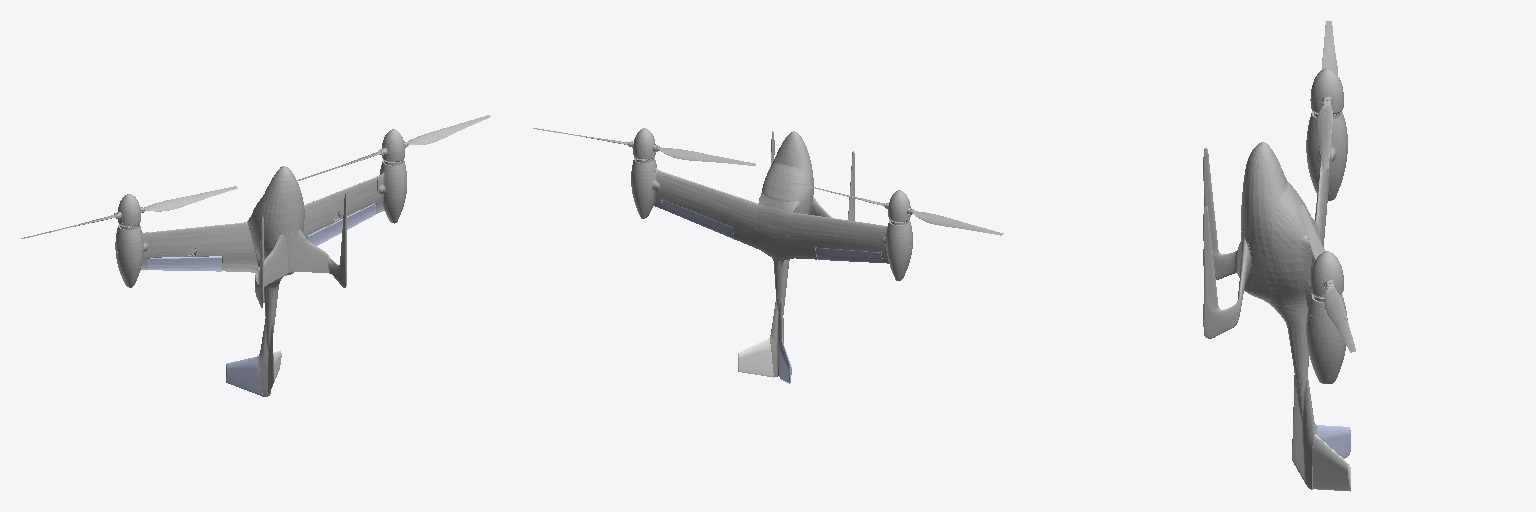
URDF robot description (Tiltrotor_6D):
<?xml version="1.0" encoding="utf-8"?>
<!-- This URDF was automatically created by SolidWorks to URDF Exporter! Originally created by Stephen Brawner (brawner@gmail.com) 
     Commit Version: 1.6.0-4-g7f85cfe  Build Version: 1.6.7995.38578
     For more information, please see http://wiki.ros.org/sw_urdf_exporter -->
<robot
  name="Tiltrotor_6D">
  <link
    name="Fusilage">
    <inertial>
      <origin
        xyz="0.00 0.17 -0.66"
        rpy="0 0 0" />
      <mass
        value="3.86" />
      <inertia
        ixx="0.55"
        ixy="0.0"
        ixz="0.0"
        iyy="0.91"
        iyz="0.05"
        izz="0.48" />
    </inertial>
    <visual>
      <origin
        xyz="0 0 0"
        rpy="0 0 0" />
      <geometry>
        <mesh
          filename="package://Tiltrotor_6D/meshes/Fusilage.STL" />
      </geometry>
      <material
        name="">
        <color
          rgba="0.75294 0.75294 0.75294 1" />
      </material>
    </visual>
    <collision>
      <origin
        xyz="0 0 0"
        rpy="0 0 0" />
      <geometry>
        <mesh
          filename="package://Tiltrotor_6D/meshes/Fusilage.STL" />
      </geometry>
    </collision>
  </link>
  <link
    name="Aileron_Right">
    <inertial>
      <origin
        xyz="-0.019605 -0.003630 0.230941"
        rpy="0 0 0" />
      <mass
        value="0.974692" />
      <inertia
        ixx="0.020382"
        ixy="-0.000078"
        ixz="-0.000206"
        iyy="0.020766"
        iyz="-0.000099"
        izz="0.000467" />
    </inertial>
    <visual>
      <origin
        xyz="0 0 0"
        rpy="0 0 0" />
      <geometry>
        <mesh
          filename="package://Tiltrotor_6D/meshes/Aileron_Right.STL" />
      </geometry>
      <material
        name="">
        <color
          rgba="0.79216 0.81961 0.93333 1" />
      </material>
    </visual>
    <collision>
      <origin
        xyz="0 0 0"
        rpy="0 0 0" />
      <geometry>
        <mesh
          filename="package://Tiltrotor_6D/meshes/Aileron_Right.STL" />
      </geometry>
    </collision>
  </link>
  <joint
    name="Aileron_Right_Hinge"
    type="revolute">
    <origin
      xyz="-0.29646 0.2363 -0.63316"
      rpy="-0.035889 -1.3866 -0.031226" />
    <parent
      link="Fusilage" />
    <child
      link="Aileron_Right" />
    <axis
      xyz="0 0 1" />
    <limit
      lower="0"
      upper="0"
      effort="0"
      velocity="0" />
  </joint>
  <link
    name="Aileron_Left">
    <inertial>
      <origin
        xyz="0.019605 -0.003630 0.230941"
        rpy="0 0 0" />
      <mass
        value="0.974692" />
      <inertia
        ixx="0.020382"
        ixy="0.000078"
        ixz="0.000206"
        iyy="0.020766"
        iyz="-0.000099"
        izz="0.000467" />
    </inertial>
    <visual>
      <origin
        xyz="0 0 0"
        rpy="0 0 0" />
      <geometry>
        <mesh
          filename="package://Tiltrotor_6D/meshes/Aileron_Left.STL" />
      </geometry>
      <material
        name="">
        <color
          rgba="0.79216 0.81961 0.93333 1" />
      </material>
    </visual>
    <collision>
      <origin
        xyz="0 0 0"
        rpy="0 0 0" />
      <geometry>
        <mesh
          filename="package://Tiltrotor_6D/meshes/Aileron_Left.STL" />
      </geometry>
    </collision>
  </link>
  <joint
    name="Aileron_Left_Hinge"
    type="revolute">
    <origin
      xyz="0.29646 0.2363 -0.63316"
      rpy="-1.0868 1.1664 -1.0529" />
    <parent
      link="Fusilage" />
    <child
      link="Aileron_Left" />
    <axis
      xyz="0 0 -1" />
    <limit
      lower="0"
      upper="0"
      effort="0"
      velocity="0" />
  </joint>
  <link
    name="Nacelle_Right">
    <inertial>
      <origin
        xyz="-0.071202 -0.002228 0.116351"
        rpy="0 0 0" />
      <mass
        value="3.222442" />
      <inertia
        ixx="0.006960"
        ixy="-0.002005"
        ixz="-0.000444"
        iyy="0.032119"
        iyz="-0.000095"
        izz="0.030554" />
    </inertial>
    <visual>
      <origin
        xyz="0 0 0"
        rpy="0 0 0" />
      <geometry>
        <mesh
          filename="package://Tiltrotor_6D/meshes/Nacelle_Right.STL" />
      </geometry>
      <material
        name="">
        <color
          rgba="0.75294 0.75294 0.75294 1" />
      </material>
    </visual>
    <collision>
      <origin
        xyz="0 0 0"
        rpy="0 0 0" />
      <geometry>
        <mesh
          filename="package://Tiltrotor_6D/meshes/Nacelle_Right.STL" />
      </geometry>
    </collision>
  </link>
  <joint
    name="Nacelle_Right_Hinge"
    type="revolute">
    <origin
      xyz="-0.79367 0.26882 -0.45679"
      rpy="1.727 -0.18776 1.4822" />
    <parent
      link="Fusilage" />
    <child
      link="Nacelle_Right" />
    <axis
      xyz="0 0 1" />
    <limit
      lower="-1.832595715"
      upper="0.261799388"
      effort="500"
      velocity="10" />
  </joint>
  <link
    name="Rotor_Right">
    <inertial>
      <origin
        xyz="0.000000 -0.000021 0.062094"
        rpy="0 0 0" />
      <mass
        value="1.653344" />
      <inertia
        ixx="0.003578"
        ixy="-0.004283"
        ixz="0.0"
        iyy="0.052990"
        iyz="0.000001"
        izz="0.052456" />
    </inertial>
    <visual>
      <origin
        xyz="0 0 0"
        rpy="0 0 0" />
      <geometry>
        <mesh
          filename="package://Tiltrotor_6D/meshes/Rotor_Right.STL" />
      </geometry>
      <material
        name="">
        <color
          rgba="0.75294 0.75294 0.75294 1" />
      </material>
    </visual>
    <collision>
      <origin
        xyz="0 0 0"
        rpy="0 0 0" />
      <geometry>
        <mesh
          filename="package://Tiltrotor_6D/meshes/Rotor_Right.STL" />
      </geometry>
    </collision>
  </link>
  <joint
    name="Rotor_Right_Hinge"
    type="continuous">
    <origin
      xyz="0.023418 0.13912 -0.14859"
      rpy="1.0204 -1.2732 0.34031" />
    <parent
      link="Nacelle_Right" />
    <child
      link="Rotor_Right" />
    <axis
      xyz="0 0 -1" />
  </joint>
  <link
    name="Nacelle_Left">
    <inertial>
      <origin
        xyz="0.071202 -0.002228 0.116351"
        rpy="0 0 0" />
      <mass
        value="3.222442" />
      <inertia
        ixx="0.006960"
        ixy="0.002005"
        ixz="0.000444"
        iyy="0.032119"
        iyz="-0.000095"
        izz="0.030554" />
    </inertial>
    <visual>
      <origin
        xyz="0 0 0"
        rpy="0 0 0" />
      <geometry>
        <mesh
          filename="package://Tiltrotor_6D/meshes/Nacelle_Left.STL" />
      </geometry>
      <material
        name="">
        <color
          rgba="0.75294 0.75294 0.75294 1" />
      </material>
    </visual>
    <collision>
      <origin
        xyz="0 0 0"
        rpy="0 0 0" />
      <geometry>
        <mesh
          filename="package://Tiltrotor_6D/meshes/Nacelle_Left.STL" />
      </geometry>
    </collision>
  </link>
  <joint
    name="Nacelle_Left_Hinge"
    type="revolute">
    <origin
      xyz="0.79367 0.26882 -0.45679"
      rpy="1.4174 -0.0010657 1.6302" />
    <parent
      link="Fusilage" />
    <child
      link="Nacelle_Left" />
    <axis
      xyz="0 0 1" />
    <limit
      lower="-1.832595715"
      upper="0.261799388"
      effort="500"
      velocity="10" />
  </joint>
  <link
    name="Rotor_Left">
    <inertial>
      <origin
        xyz="0.000000 -0.000021 0.062094"
        rpy="0 0 0" />
      <mass
        value="1.653344" />
      <inertia
        ixx="0.003578"
        ixy="0.004283"
        ixz="0.0"
        iyy="0.052990"
        iyz="0.000001"
        izz="0.052456" />
    </inertial>
    <visual>
      <origin
        xyz="0 0 0"
        rpy="0 0 0" />
      <geometry>
        <mesh
          filename="package://Tiltrotor_6D/meshes/Rotor_Left.STL" />
      </geometry>
      <material
        name="">
        <color
          rgba="0.75294 0.75294 0.75294 1" />
      </material>
    </visual>
    <collision>
      <origin
        xyz="0 0 0"
        rpy="0 0 0" />
      <geometry>
        <mesh
          filename="package://Tiltrotor_6D/meshes/Rotor_Left.STL" />
      </geometry>
    </collision>
  </link>
  <joint
    name="Rotor_Left_Hinge"
    type="continuous">
    <origin
      xyz="-0.0033164 0.14104 0.14859"
      rpy="2.5672 -1.3871 -0.98869" />
    <parent
      link="Nacelle_Left" />
    <child
      link="Rotor_Left" />
    <axis
      xyz="0 0 1" />
  </joint>
  <link
    name="Ruddervator_Right">
    <inertial>
      <origin
        xyz="0.005643 -0.049744 -0.087776"
        rpy="0 0 0" />
      <mass
        value="1.307926" />
      <inertia
        ixx="0.008063"
        ixy="0.000393"
        ixz="-0.000009"
        iyy="0.004643"
        iyz="0.000080"
        izz="0.003608" />
    </inertial>
    <visual>
      <origin
        xyz="0 0 0"
        rpy="0 0 0" />
      <geometry>
        <mesh
          filename="package://Tiltrotor_6D/meshes/Ruddervator_Right.STL" />
      </geometry>
      <material
        name="">
        <color
          rgba="0.79216 0.81961 0.93333 1" />
      </material>
    </visual>
    <collision>
      <origin
        xyz="0 0 0"
        rpy="0 0 0" />
      <geometry>
        <mesh
          filename="package://Tiltrotor_6D/meshes/Ruddervator_Right.STL" />
      </geometry>
    </collision>
  </link>
  <joint
    name="Ruddervator_Right_Hinge"
    type="revolute">
    <origin
      xyz="-0.041601 0.22044 -1.4097"
      rpy="1.4806 0.08969 0.77486" />
    <parent
      link="Fusilage" />
    <child
      link="Ruddervator_Right" />
    <axis
      xyz="0 0 1" />
    <limit
      lower="0"
      upper="0"
      effort="0"
      velocity="0" />
  </joint>
  <link
    name="Ruddervator_Left">
    <inertial>
      <origin
        xyz="-0.005643 -0.049744 -0.087776"
        rpy="0 0 0" />
      <mass
        value="1.307926" />
      <inertia
        ixx="0.008063"
        ixy="-0.000393"
        ixz="0.000009"
        iyy="0.004643"
        iyz="0.000080"
        izz="0.003608" />
    </inertial>
    <visual>
      <origin
        xyz="0 0 0"
        rpy="0 0 0" />
      <geometry>
        <mesh
          filename="package://Tiltrotor_6D/meshes/Ruddervator_Left.STL" />
      </geometry>
      <material
        name="">
        <color
          rgba="1 1 1 1" />
      </material>
    </visual>
    <collision>
      <origin
        xyz="0 0 0"
        rpy="0 0 0" />
      <geometry>
        <mesh
          filename="package://Tiltrotor_6D/meshes/Ruddervator_Left.STL" />
      </geometry>
    </collision>
  </link>
  <joint
    name="Ruddervator_Left_Hinge"
    type="revolute">
    <origin
      xyz="0.041601 0.22044 -1.4097"
      rpy="1.8074 1.1781 2.5778" />
    <parent
      link="Fusilage" />
    <child
      link="Ruddervator_Left" />
    <axis
      xyz="0 0 -1" />
    <limit
      lower="0"
      upper="0"
      effort="0"
      velocity="0" />
  </joint>
</robot>

--- What the picture shows (computed from the rendered views, not written in the file) ---
3 views of the same robot in one strip: view 1: azimuth 30°, elevation 25°; view 2: azimuth 150°, elevation 25°; view 3: azimuth 270°, elevation 25° (orthographic).
Model Tiltrotor_6D with 9 links and 8 joints (6 revolute, 2 continuous), rooted at Fusilage, posed every joint at zero.
Visible links, largest first — view 1: Fusilage, Nacelle_Right, Rotor_Right, Rotor_Left, Nacelle_Left, Aileron_Right, Ruddervator_Right, Aileron_Left; view 2: Fusilage, Rotor_Left, Rotor_Right, Nacelle_Right, Nacelle_Left, Ruddervator_Left, Aileron_Left, Aileron_Right; view 3: Fusilage, Rotor_Left, Rotor_Right, Nacelle_Left, Nacelle_Right, Ruddervator_Left, Ruddervator_Right.
Link boxes in pixels (bbox=[...]): Fusilage: bbox=[148, 166, 376, 396]; Nacelle_Right: bbox=[115, 225, 148, 287]; Rotor_Right: bbox=[21, 186, 237, 238]; Rotor_Left: bbox=[297, 115, 490, 180]; Nacelle_Left: bbox=[376, 160, 406, 223]; Aileron_Right: bbox=[148, 256, 221, 271]; Ruddervator_Right: bbox=[226, 356, 262, 396]; Aileron_Left: bbox=[308, 203, 375, 245]; Fusilage: bbox=[661, 131, 882, 376]; Rotor_Left: bbox=[533, 128, 755, 165]; Rotor_Right: bbox=[796, 183, 1003, 235]; Nacelle_Right: bbox=[881, 220, 912, 280]; Nacelle_Left: bbox=[631, 158, 662, 218]; Ruddervator_Left: bbox=[738, 338, 773, 377]; Aileron_Left: bbox=[661, 200, 734, 239]; Aileron_Right: bbox=[815, 247, 882, 262]; Fusilage: bbox=[1203, 142, 1330, 489]; Rotor_Left: bbox=[1298, 205, 1355, 352]; Rotor_Right: bbox=[1310, 21, 1343, 169]; Nacelle_Left: bbox=[1306, 295, 1347, 383]; Nacelle_Right: bbox=[1306, 111, 1347, 200]; Ruddervator_Left: bbox=[1312, 434, 1350, 491]; Ruddervator_Right: bbox=[1316, 425, 1350, 458].
Bounding box of the posed robot: 3.32 × 0.6492 × 1.62 m (x, y, z).
9 mesh visuals loaded from 9 distinct referenced files (9 binary STL).
